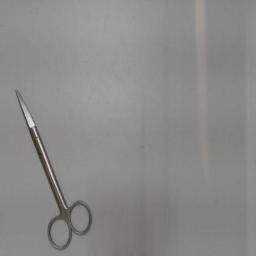Curved Mayo Scissors: (12, 84, 98, 256)
